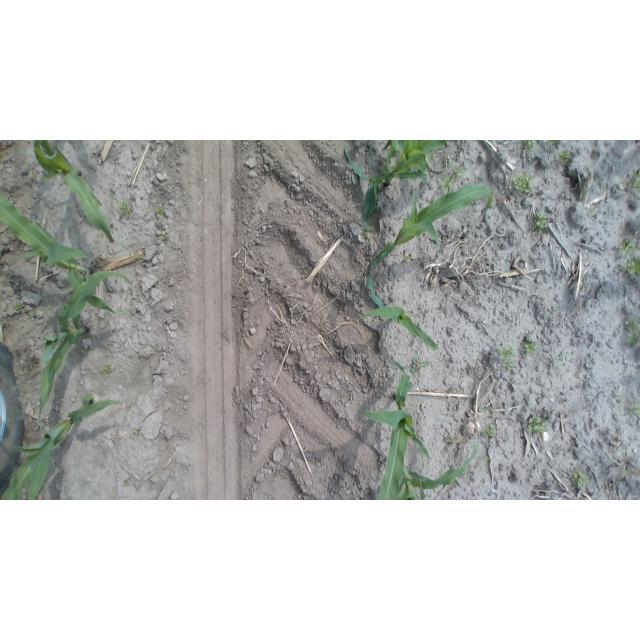Maize: (362, 180, 496, 309), (29, 268, 134, 429), (1, 188, 128, 314), (1, 392, 124, 500), (359, 358, 431, 500), (21, 141, 118, 244), (344, 141, 448, 234), (385, 424, 481, 501), (358, 306, 438, 351)
Weeds: (497, 344, 517, 374), (508, 173, 537, 193), (622, 316, 640, 347), (117, 200, 138, 223), (525, 414, 547, 434), (617, 238, 637, 259), (407, 356, 429, 374), (571, 469, 589, 491), (627, 257, 640, 282), (532, 213, 549, 231), (483, 421, 498, 440), (522, 340, 538, 357), (629, 171, 640, 194), (441, 177, 454, 196), (516, 140, 536, 152), (100, 362, 118, 374), (452, 165, 469, 177), (479, 455, 493, 469), (629, 402, 640, 419), (155, 207, 168, 221), (557, 150, 571, 163), (556, 351, 570, 363), (12, 301, 27, 312), (159, 230, 171, 242), (400, 253, 414, 263), (478, 405, 490, 416), (26, 310, 40, 319), (544, 140, 557, 148), (360, 229, 368, 241), (121, 479, 131, 488), (444, 436, 453, 445), (134, 428, 143, 436)
